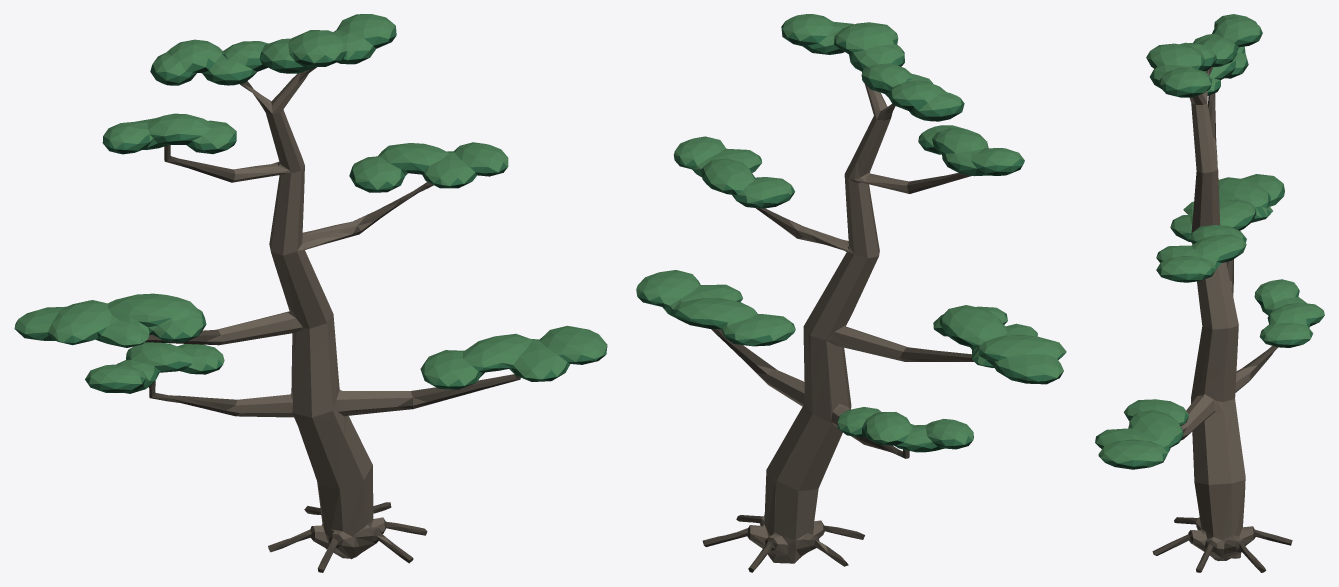
Rendered from ancient-pine-2153-lod0.glb.
3 views of the same model, side by side, from view 1: azimuth 30°, elevation 25°; view 2: azimuth 150°, elevation 25°; view 3: azimuth 270°, elevation 25° (orthographic). The views are drawn at different scales.
Parts seen in each view (by area): view 1: n12.004, n8.004, n11.004, n9.004, n10.004; view 2: n12.004, n8.004, n11.004, n9.004, n10.004; view 3: n12.004, n8.004, n11.004, n9.004, n10.004.
Part boxes in pixels (x1,y1,x2,y2): n12.004: (14, 14, 607, 386); n8.004: (206, 73, 429, 559); n11.004: (14, 21, 607, 390); n9.004: (145, 67, 520, 572); n10.004: (15, 36, 605, 393); n12.004: (636, 14, 1066, 444); n8.004: (749, 84, 921, 563); n11.004: (636, 21, 1065, 450); n9.004: (702, 72, 973, 572); n10.004: (638, 37, 1063, 452); n12.004: (1095, 14, 1324, 463); n8.004: (1174, 69, 1267, 561); n11.004: (1095, 22, 1324, 466); n9.004: (1152, 66, 1292, 572); n10.004: (1098, 41, 1318, 469).
Size of the model in its own units: 5.26 by 5.42 by 2.33.
